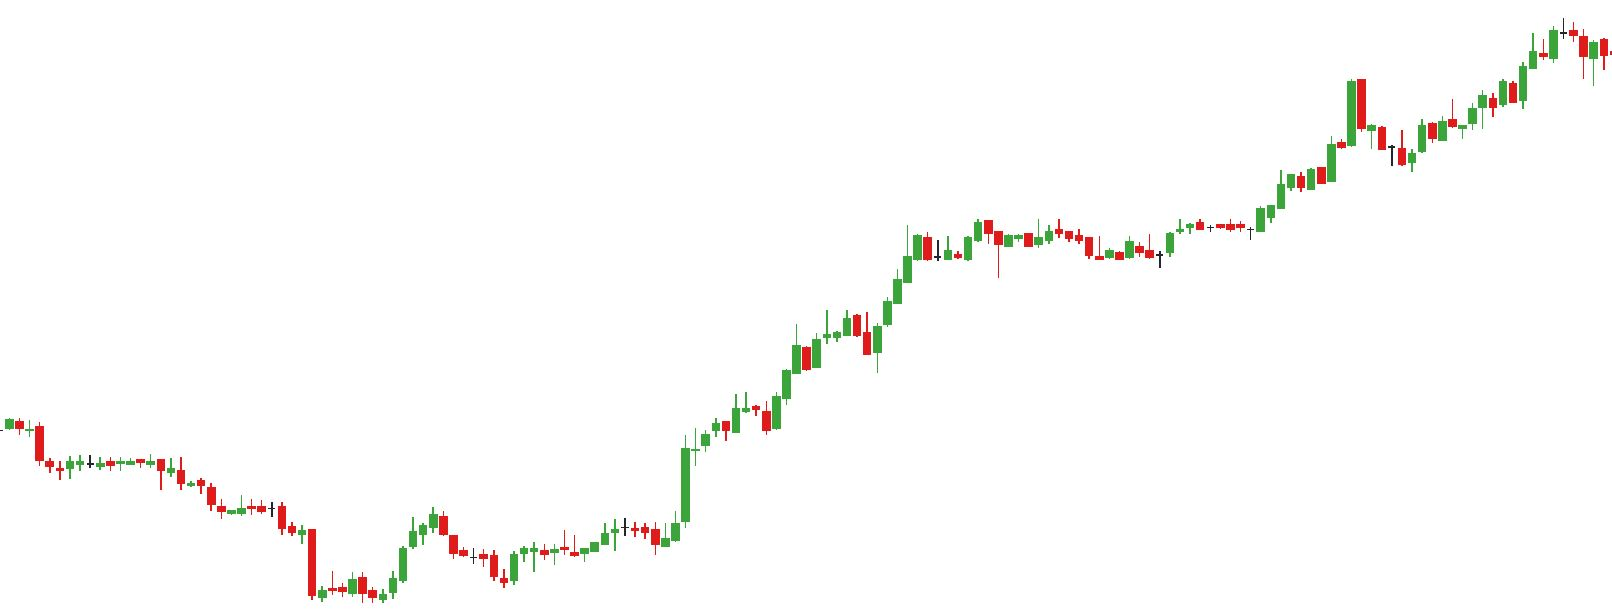buy: (608, 518, 668, 560)
